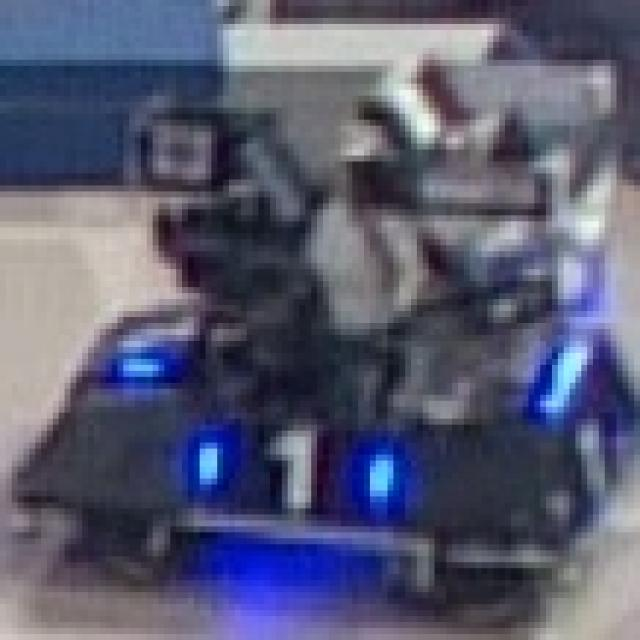B1: (170, 413, 411, 520), (82, 299, 194, 383)
